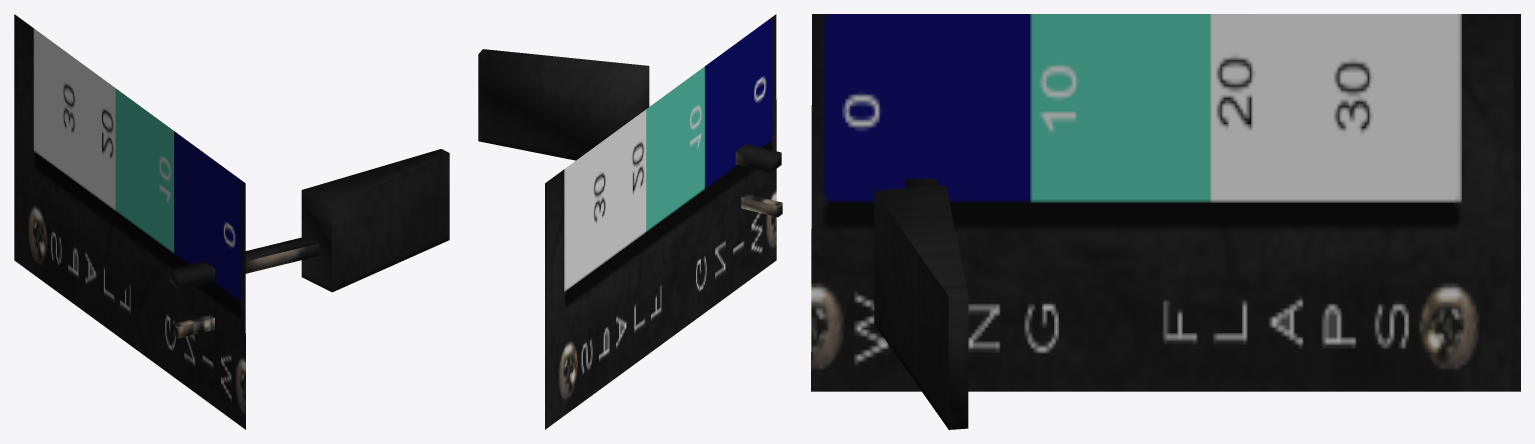
The model's file is flaps.gltf.
3 renders of one model, left to right at view 1: azimuth 30°, elevation 25°; view 2: azimuth 150°, elevation 25°; view 3: azimuth 270°, elevation 25°, orthographic. The views are drawn at different scales.
Parts seen in each view (by area): view 1: rect, legend, FlapSwitch, FlapPos; view 2: rect, legend, FlapSwitch, FlapPos; view 3: rect, legend, FlapSwitch.
Part boxes in pixels (left/top/right/bottom): rect: left=14, top=14, right=245, bottom=429; legend: left=19, top=49, right=227, bottom=407; FlapSwitch: left=169, top=149, right=449, bottom=292; FlapPos: left=173, top=314, right=214, bottom=338; rect: left=545, top=14, right=776, bottom=429; legend: left=550, top=185, right=758, bottom=417; FlapSwitch: left=478, top=49, right=781, bottom=172; FlapPos: left=741, top=194, right=782, bottom=217; rect: left=811, top=14, right=1520, bottom=391; legend: left=867, top=61, right=1505, bottom=378; FlapSwitch: left=874, top=179, right=968, bottom=429.
Size of the model in its own units: 0.0715 by 0.059 by 0.1005.
1 material, 1 textured.
